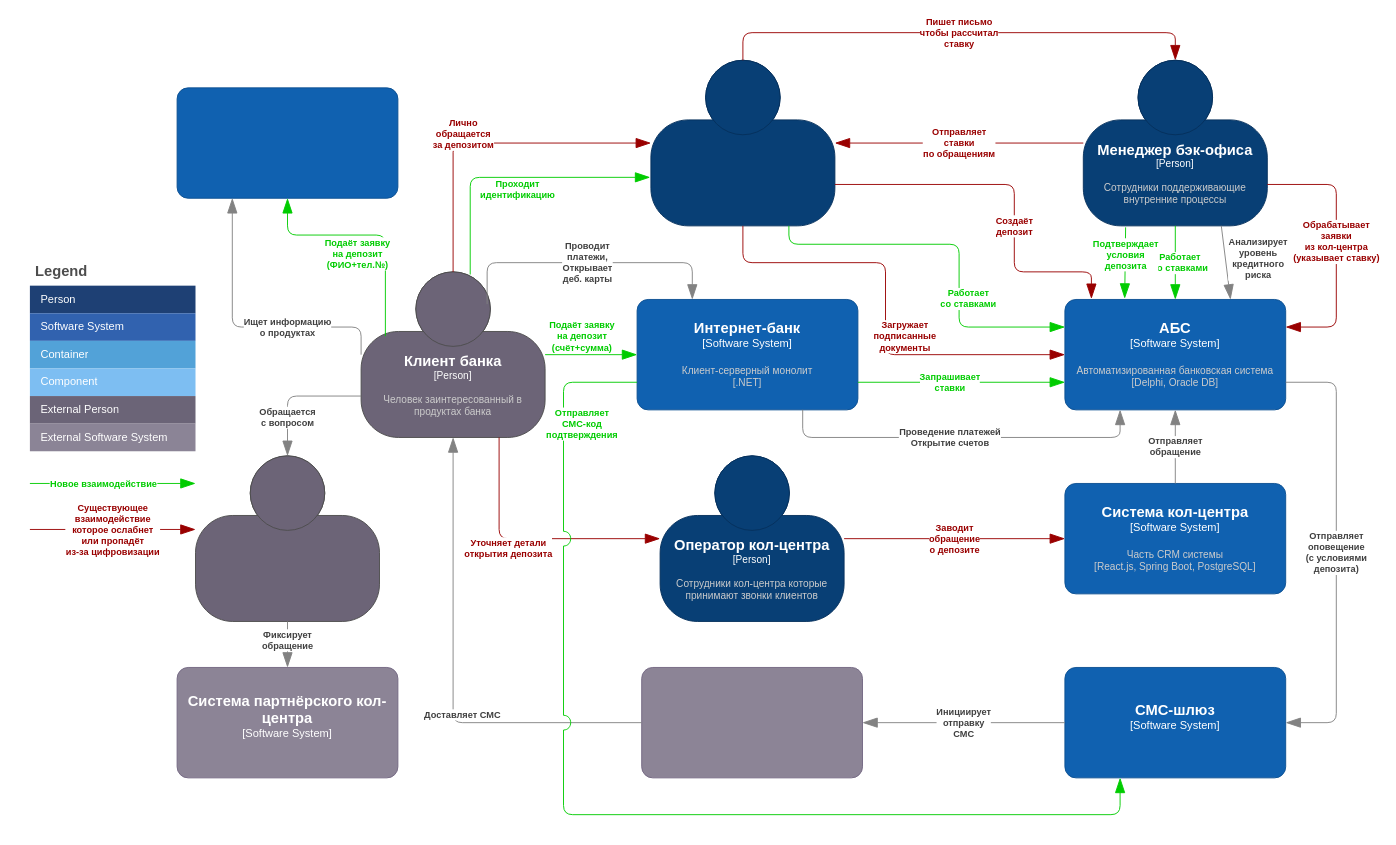
This 1396x845 diagram has some shape labels left out. The shapes that lost their labels are listed below. From the top down, each one's centre as x and y in pixels, then its label:
At point 287,142: "Сайт [Software System] Собственная разработка [React.js, PHP]".
At point 742,142: "Менеджер фронт-офиса [Person] Сотрудник отделения, обслуживающий клиента".
At point 287,538: "Сотрудник партнёрского кол-центра [Person]".
At point 751,722: "Телеком-оператор [Software System]".
